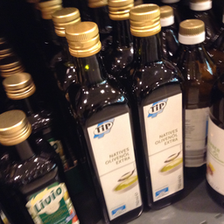oil: (62, 21, 146, 224), (123, 4, 189, 210)
